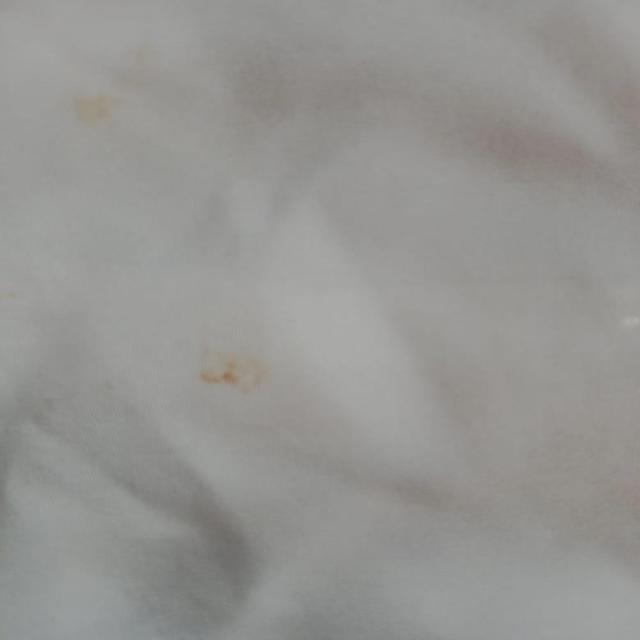stain: (187, 341, 282, 399), (58, 87, 129, 130)
